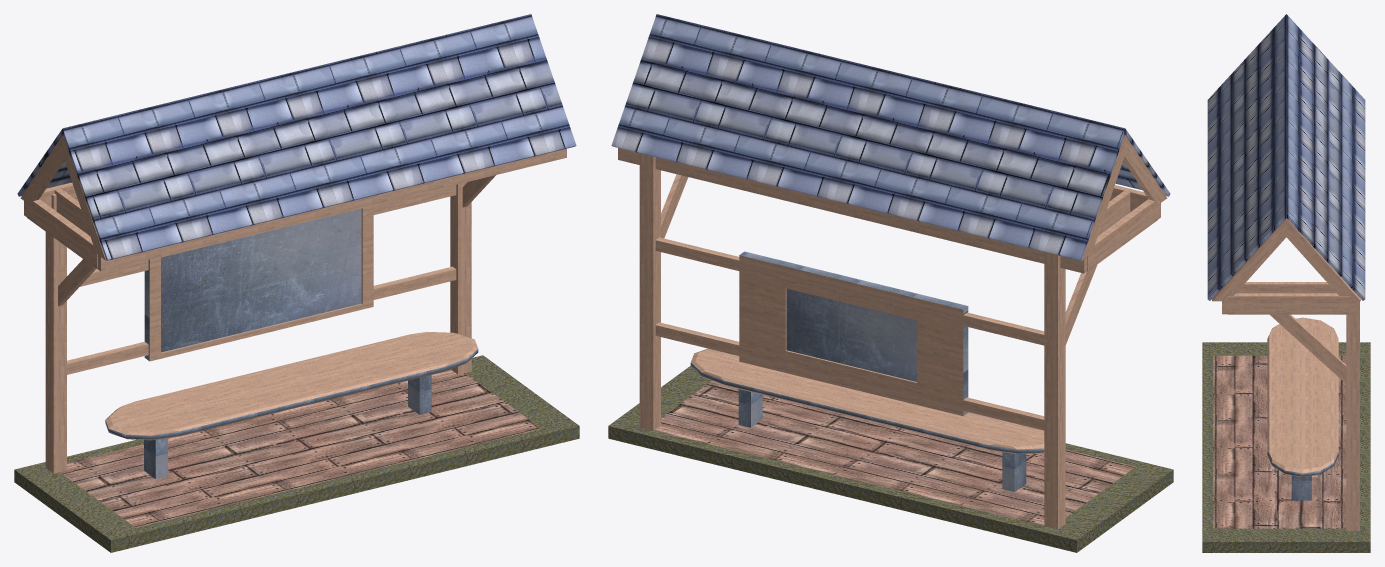
File: busstop.fbx
3 renders of one model, left to right at view 1: azimuth 30°, elevation 25°; view 2: azimuth 150°, elevation 25°; view 3: azimuth 270°, elevation 25°, orthographic. The views are drawn at different scales.
Parts seen in each view (by area): view 1: Circle, Circle.001; view 2: Circle, Circle.001; view 3: Circle, Circle.001.
Boxes of the visible parts, x1,y1,x2,y2 form: Circle: [14, 135, 579, 552]; Circle.001: [17, 14, 576, 260]; Circle: [608, 135, 1173, 552]; Circle.001: [611, 14, 1170, 260]; Circle: [1202, 218, 1370, 552]; Circle.001: [1207, 14, 1365, 300].
Bounding box in the file's own units: 462 × 367 × 165.
5 materials, 5 textured.
